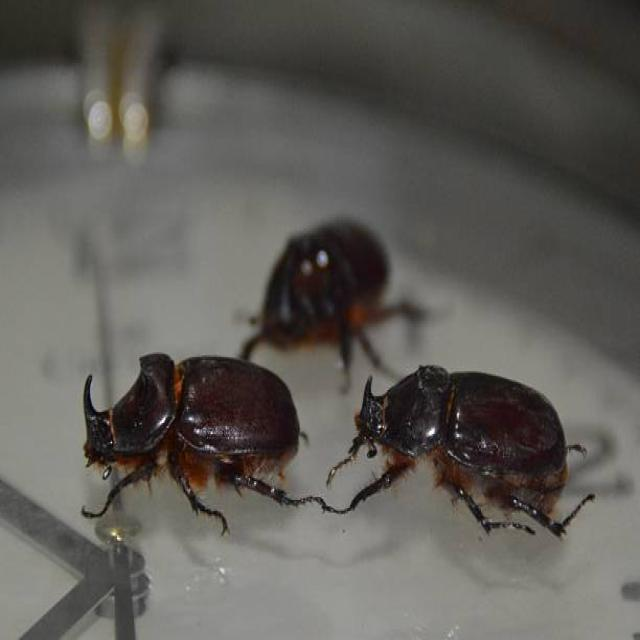Rhino-beetle: (342, 369, 602, 557), (67, 358, 310, 540), (233, 216, 411, 358)
